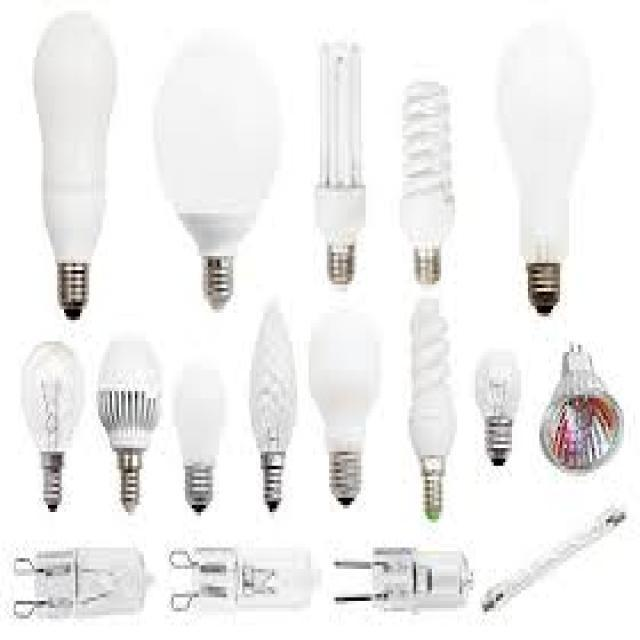bulb_off: (152, 33, 266, 310), (496, 27, 598, 319), (32, 6, 124, 320), (311, 45, 374, 292), (308, 299, 379, 513), (399, 298, 463, 519), (163, 543, 319, 621), (241, 306, 300, 508), (9, 539, 146, 624), (99, 336, 165, 512), (23, 342, 85, 516), (400, 79, 449, 283), (332, 546, 474, 611), (171, 366, 229, 516), (470, 346, 523, 465), (564, 397, 600, 438)
tubelight_off: (475, 500, 633, 621)
